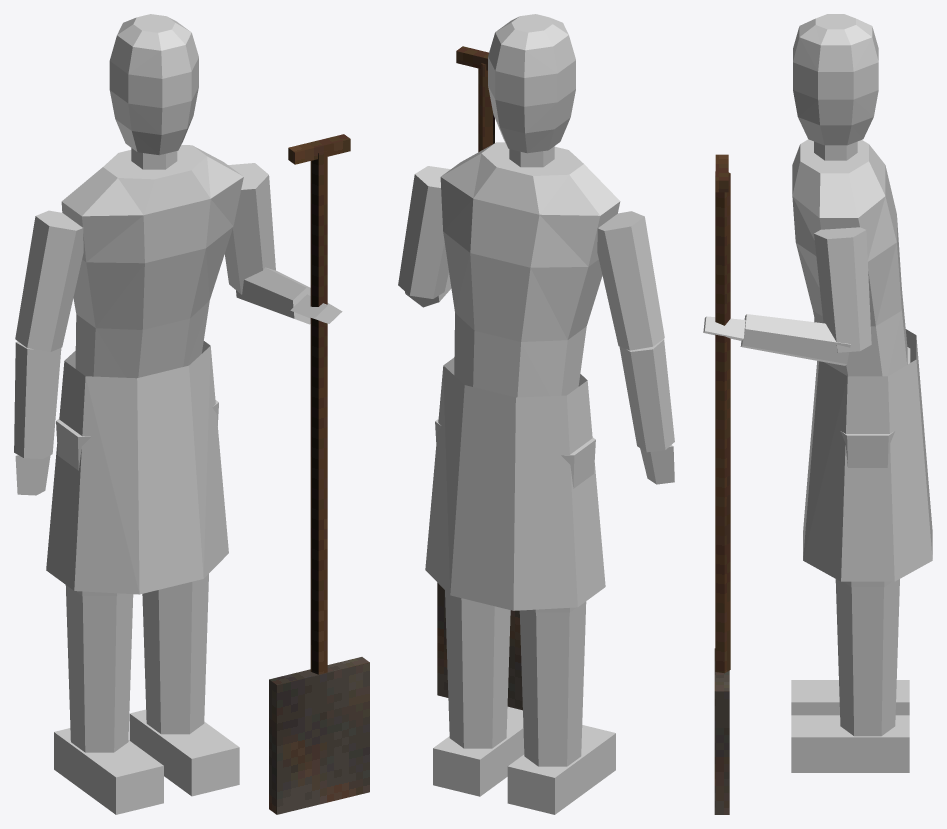
Rendered from sepulturero.obj.
The picture shows the model from 3 angles, left to right: view 1: azimuth 30°, elevation 25°; view 2: azimuth 150°, elevation 25°; view 3: azimuth 270°, elevation 25°; orthographic projection. The views are drawn at different scales.
Visible parts, largest first — view 1: sepulturero; view 2: sepulturero; view 3: sepulturero.
Boxes of the visible parts, x1,y1,x2,y2 form: sepulturero: (14, 14, 369, 814); sepulturero: (398, 14, 674, 814); sepulturero: (703, 14, 932, 814).
Size of the model in its own units: 0.7562 by 1.87 by 0.5382.
3 materials, 2 textured.
